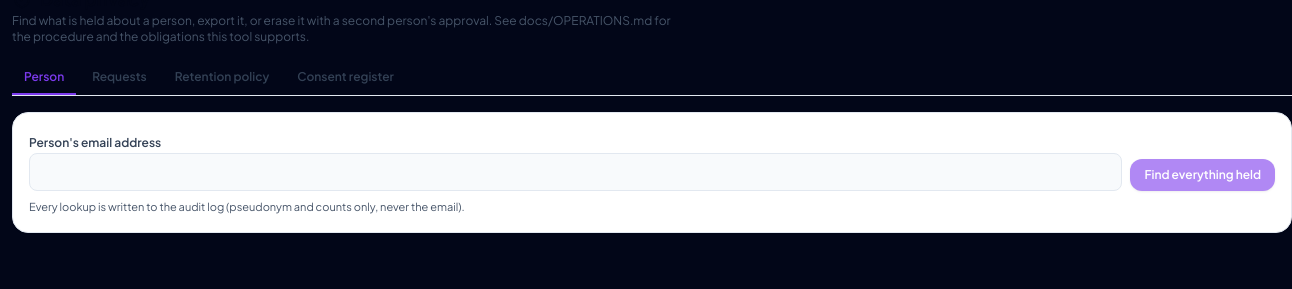
DataPrivacyPage › shows the retention table and states whether automatic deletion is on
Click the tab "Retention policy": x=222, y=78 [163, 61, 281, 95]
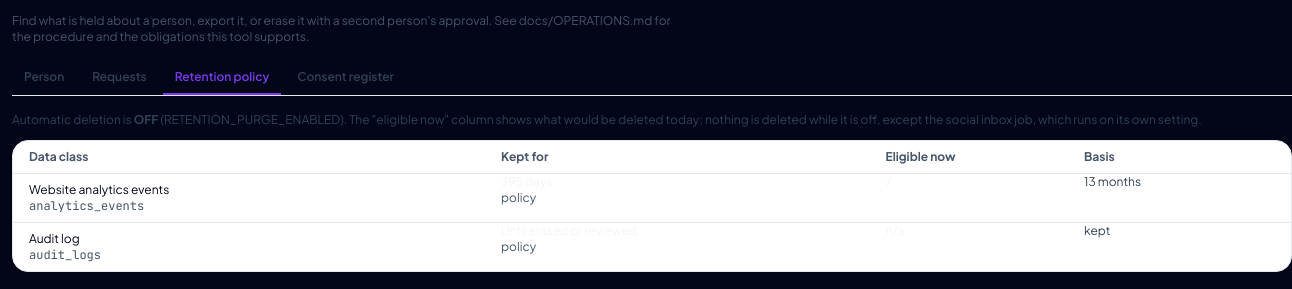
Check: the text "Automatic deletion is" is shown, box [12, 112, 134, 127]
Check: the text "Until erased or reviewed" is shown, box [501, 223, 637, 238]
Check: the text "7" is shown, box [886, 174, 1084, 222]
